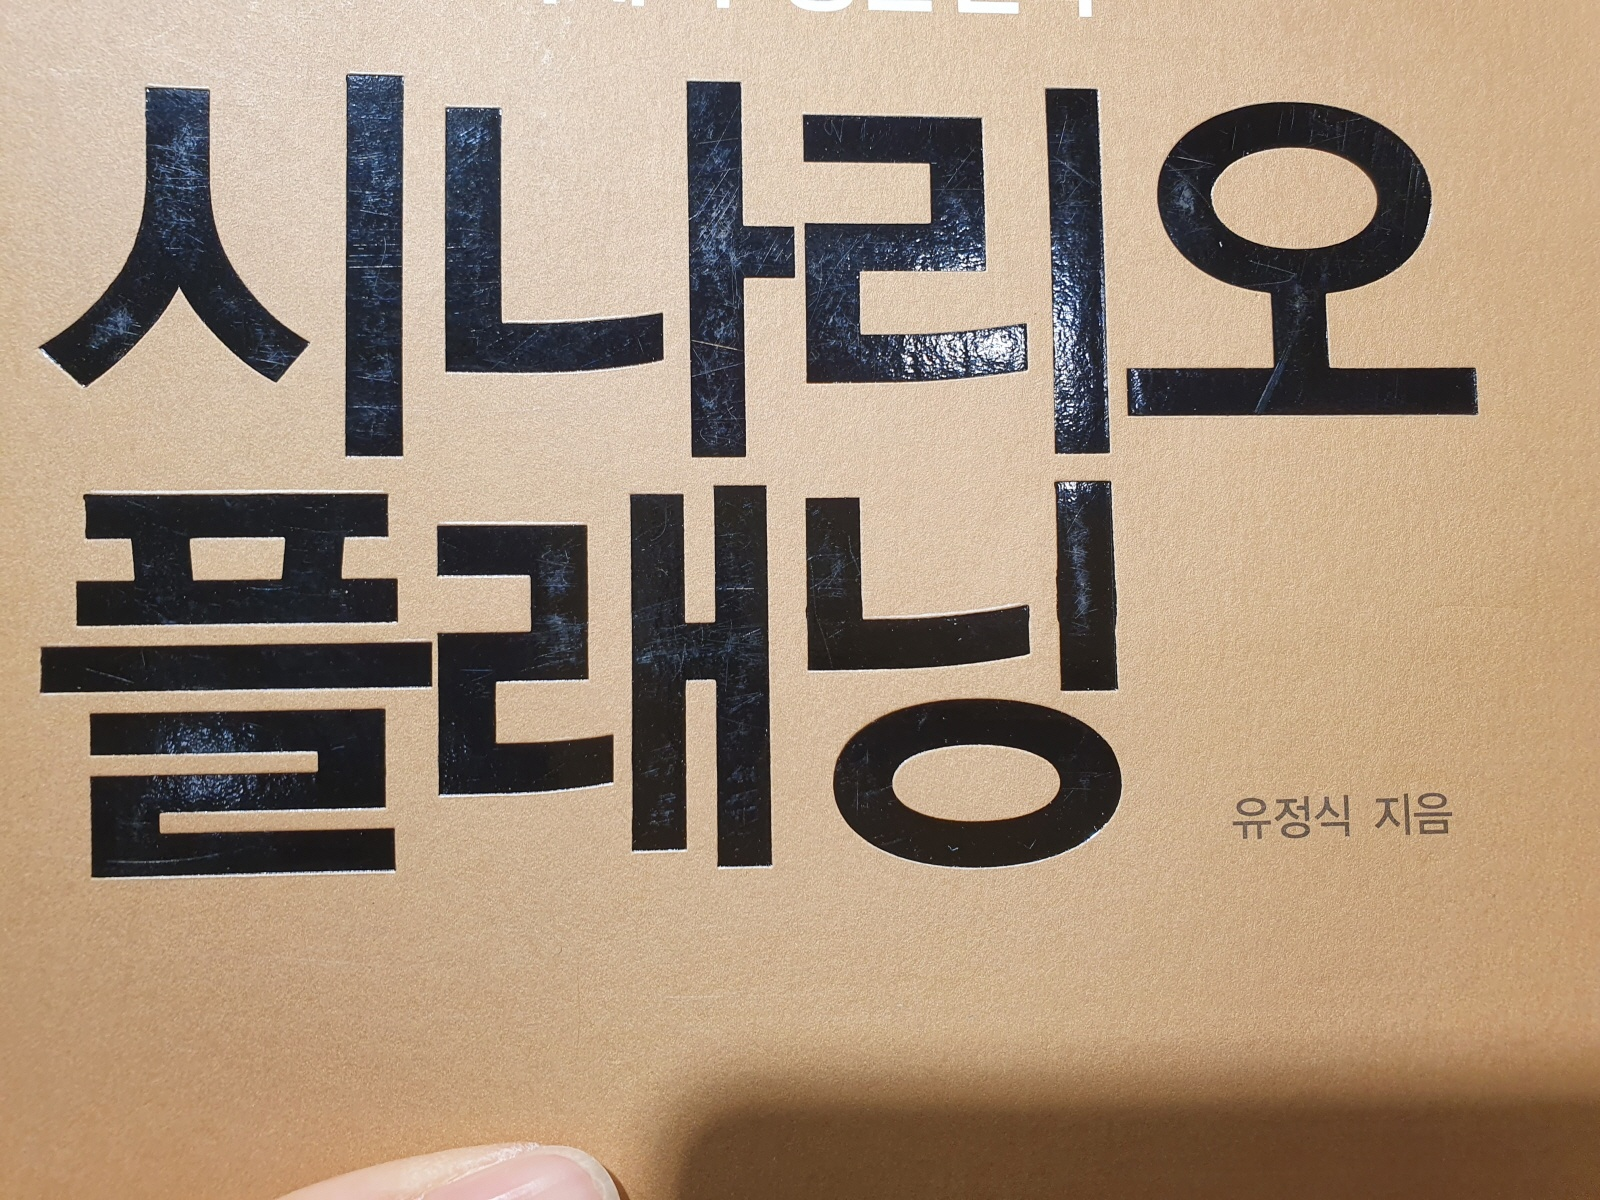text: (19, 47, 1543, 478), (19, 478, 1151, 920), (1204, 747, 1484, 887)
